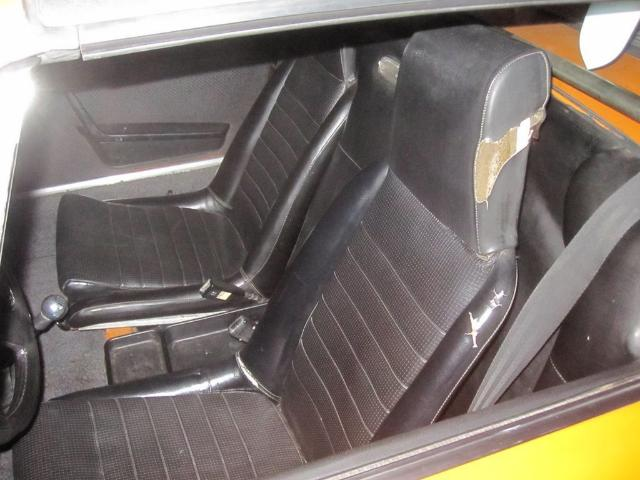Seatbelt: (466, 168, 638, 412), (466, 169, 640, 410)
